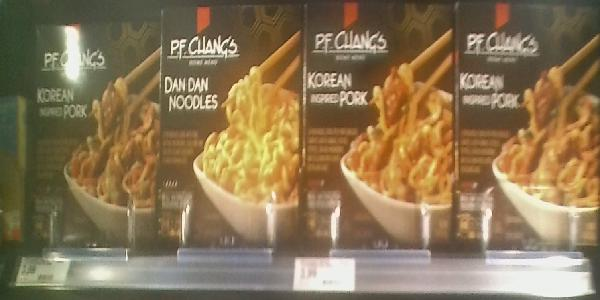pizza1: (303, 1, 454, 246), (454, 1, 600, 249), (159, 1, 302, 250), (34, 11, 159, 251)
